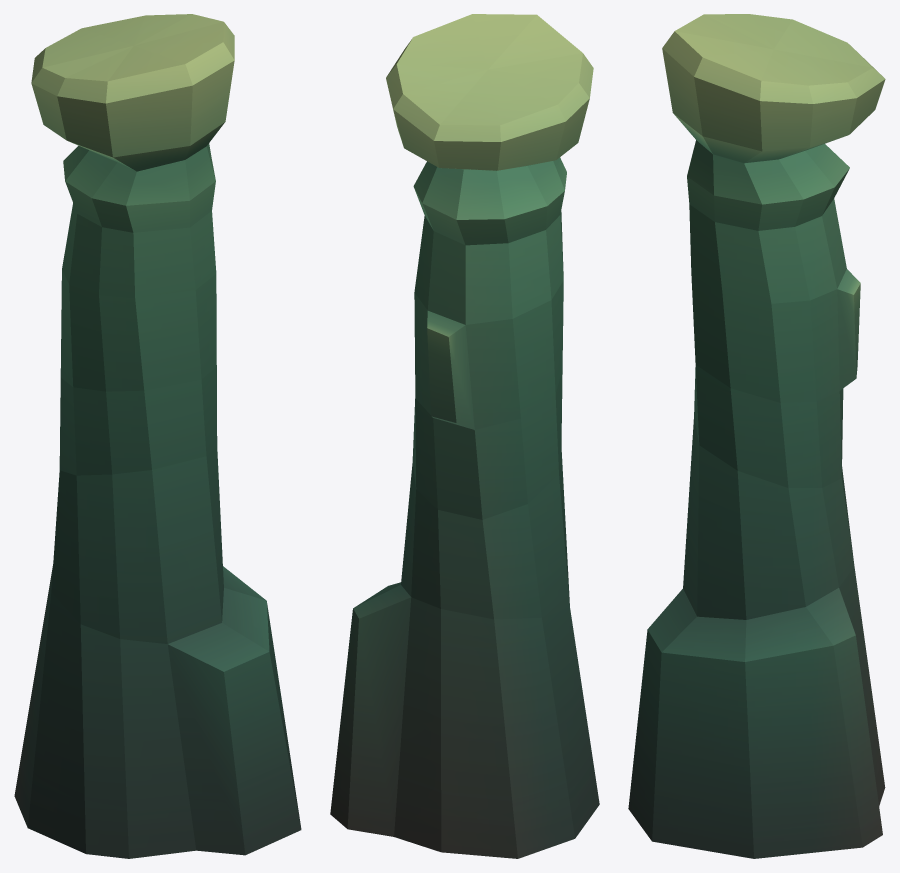
File: SM_Rock_02.fbx
3 renders of one model, left to right at view 1: azimuth 30°, elevation 25°; view 2: azimuth 150°, elevation 25°; view 3: azimuth 270°, elevation 25°, orthographic. The views are drawn at different scales.
Visible parts, largest first — view 1: SM_Rock_02; view 2: SM_Rock_02; view 3: SM_Rock_02.
Part boxes in pixels (bbox=[...]): SM_Rock_02: bbox=[14, 14, 301, 858]; SM_Rock_02: bbox=[330, 14, 599, 858]; SM_Rock_02: bbox=[628, 14, 885, 858].
Bounding box in the file's own units: 141 × 445 × 136.
Materials: 1 (1 with a texture image).
